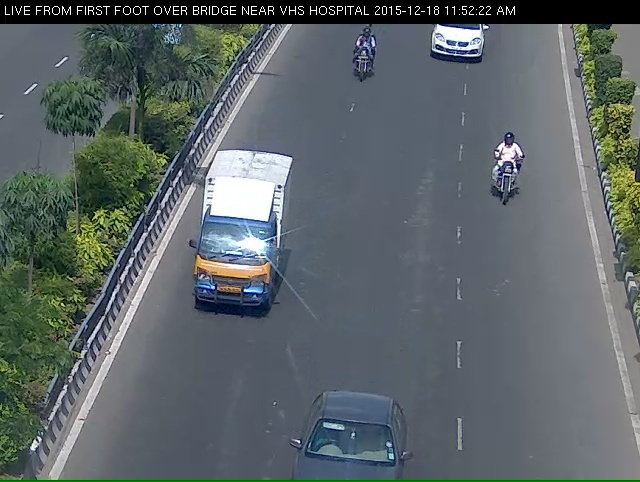Auto: (189, 168, 283, 343)
Car: (291, 426, 410, 482), (422, 21, 500, 79)
Person: (490, 144, 524, 227), (350, 33, 377, 95)
